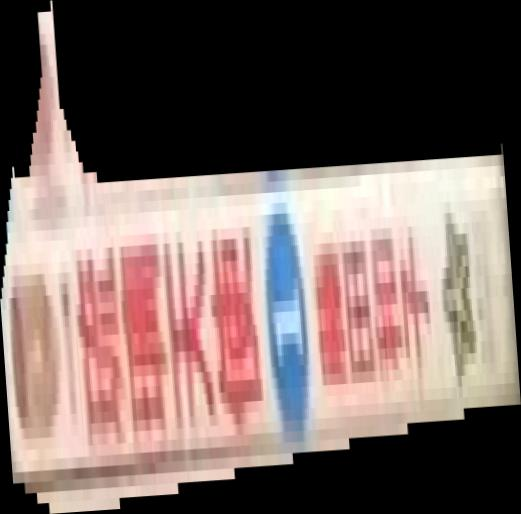flat: (1, 1, 521, 514)
